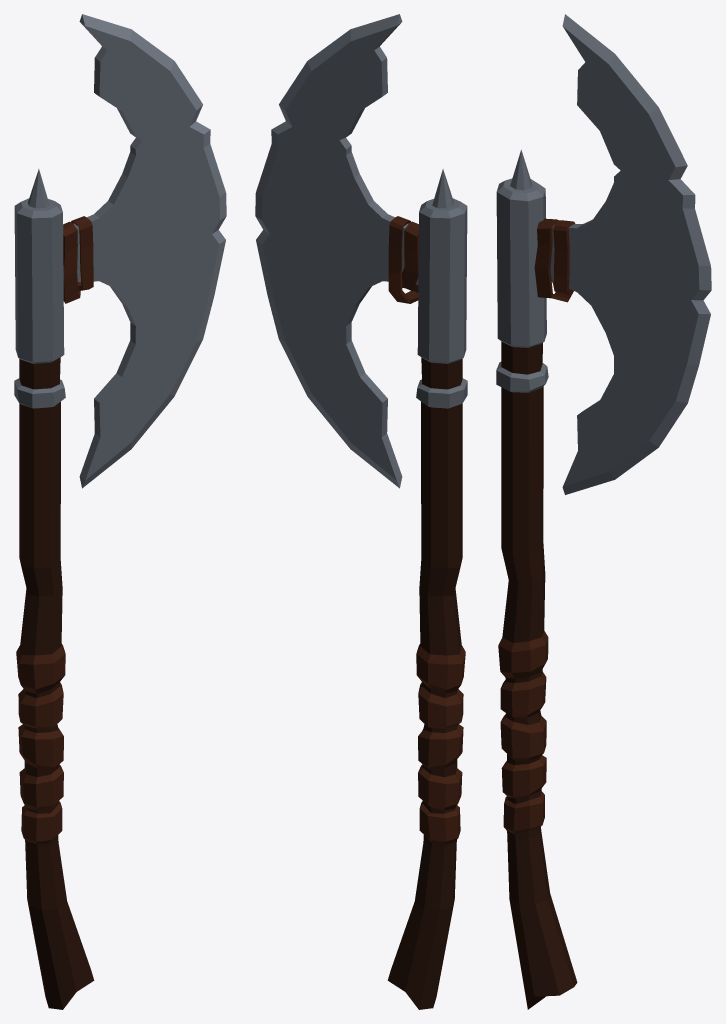
Rendered from Axe.glb.
3 renders of one model, left to right at view 1: azimuth 30°, elevation 25°; view 2: azimuth 150°, elevation 25°; view 3: azimuth 330°, elevation 25°, orthographic.
Parts seen in each view (by area): view 1: Axe; view 2: Axe; view 3: Axe.
Boxes of the visible parts, left/top/right/bottom form: Axe: left=14, top=14, right=226, bottom=1009; Axe: left=255, top=14, right=467, bottom=1009; Axe: left=496, top=14, right=711, bottom=1009.
Bounding box in the file's own units: 0.2226 × 1 × 0.0472.
